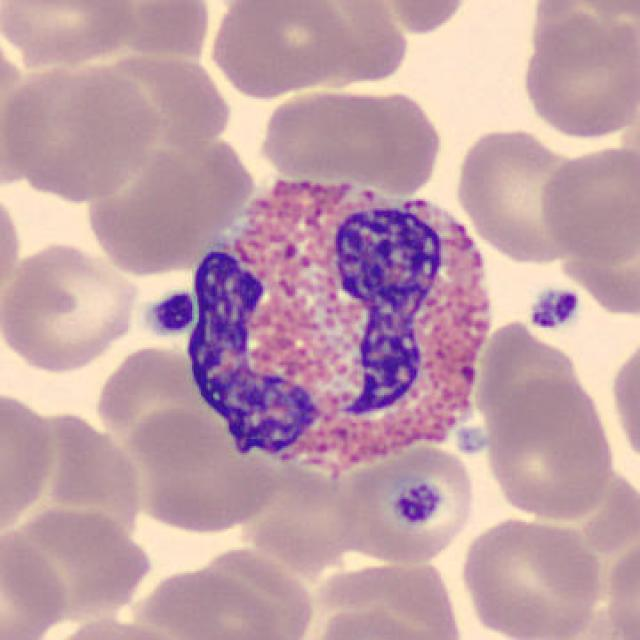Eosinophil: (176, 160, 505, 492)
Platelets: (391, 475, 446, 528), (526, 284, 583, 333), (144, 288, 197, 338), (451, 416, 497, 460)
RBC: (85, 130, 258, 279), (112, 400, 284, 536), (3, 58, 162, 205), (482, 376, 618, 524), (22, 405, 150, 561), (452, 122, 588, 266), (2, 238, 142, 376), (457, 513, 608, 640), (334, 440, 480, 568), (254, 85, 430, 187), (518, 5, 638, 143), (206, 0, 359, 100), (26, 506, 149, 620), (236, 466, 348, 582), (535, 141, 638, 266), (131, 562, 297, 638), (321, 554, 463, 640), (190, 546, 317, 640), (342, 86, 446, 196), (567, 189, 640, 325), (0, 2, 139, 69), (0, 382, 57, 538), (521, 0, 636, 74), (0, 522, 71, 640), (77, 0, 215, 58), (297, 601, 460, 640), (608, 331, 640, 476), (596, 537, 640, 640), (38, 612, 198, 640), (380, 0, 474, 37), (0, 182, 23, 310), (533, 0, 639, 19)
